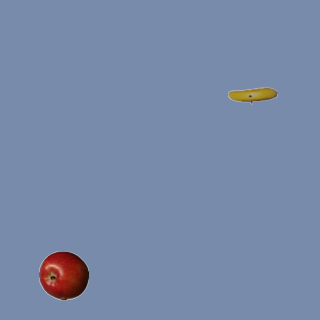Apple Braeburn: (38, 250, 88, 300)
Banana: (227, 70, 277, 120)
